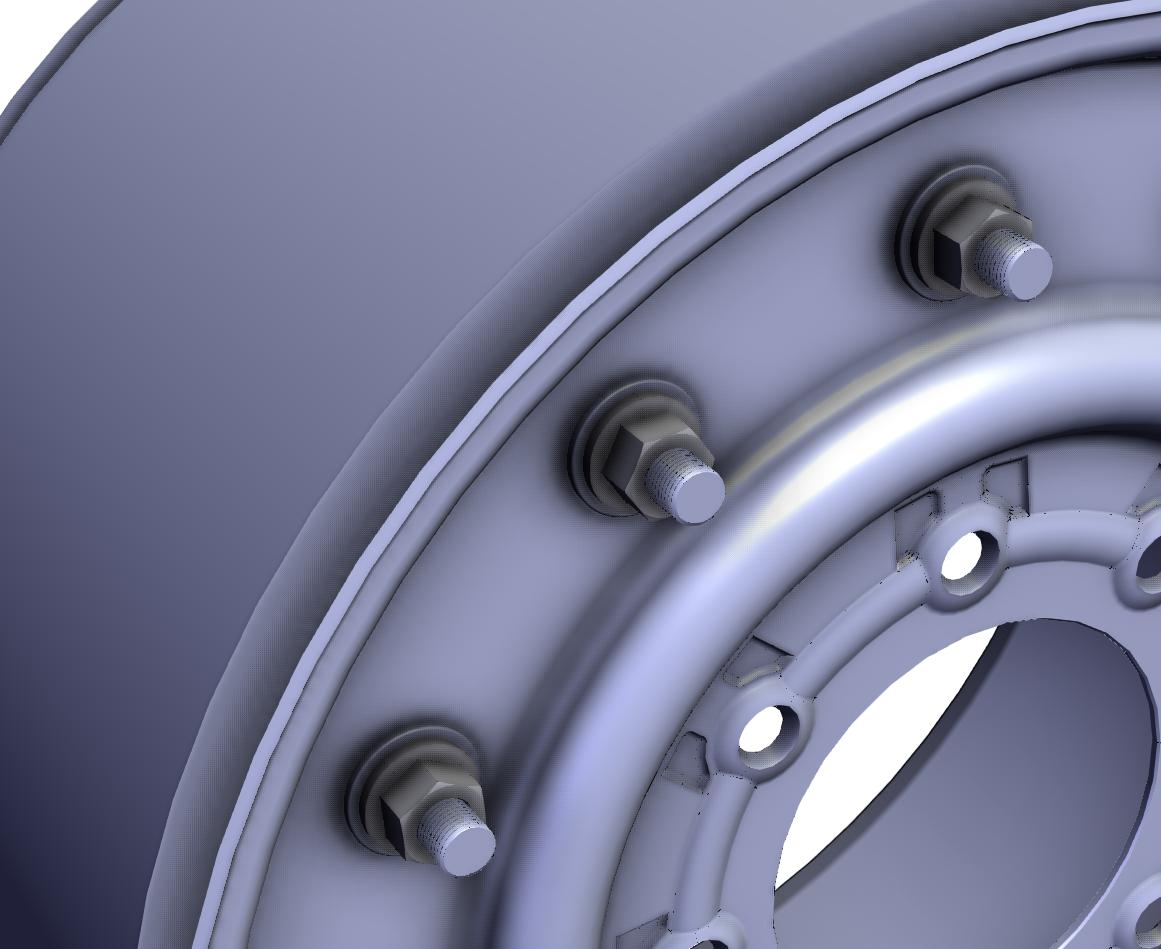bolt_b: (599, 409, 718, 528), (378, 755, 487, 870), (932, 195, 1038, 303)
